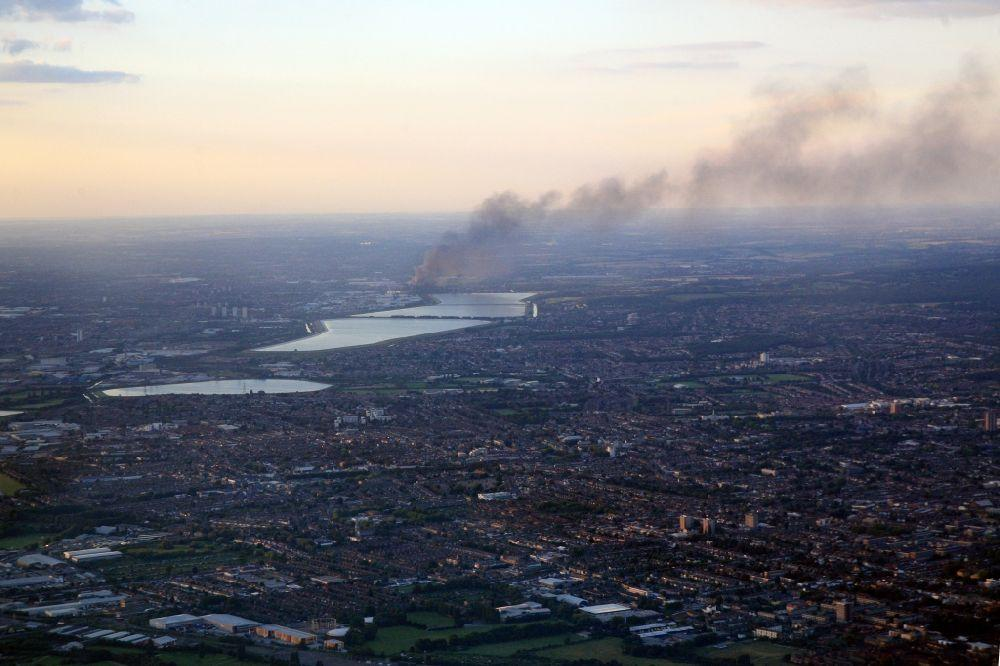smoke: (745, 153, 940, 207), (443, 225, 532, 267)
